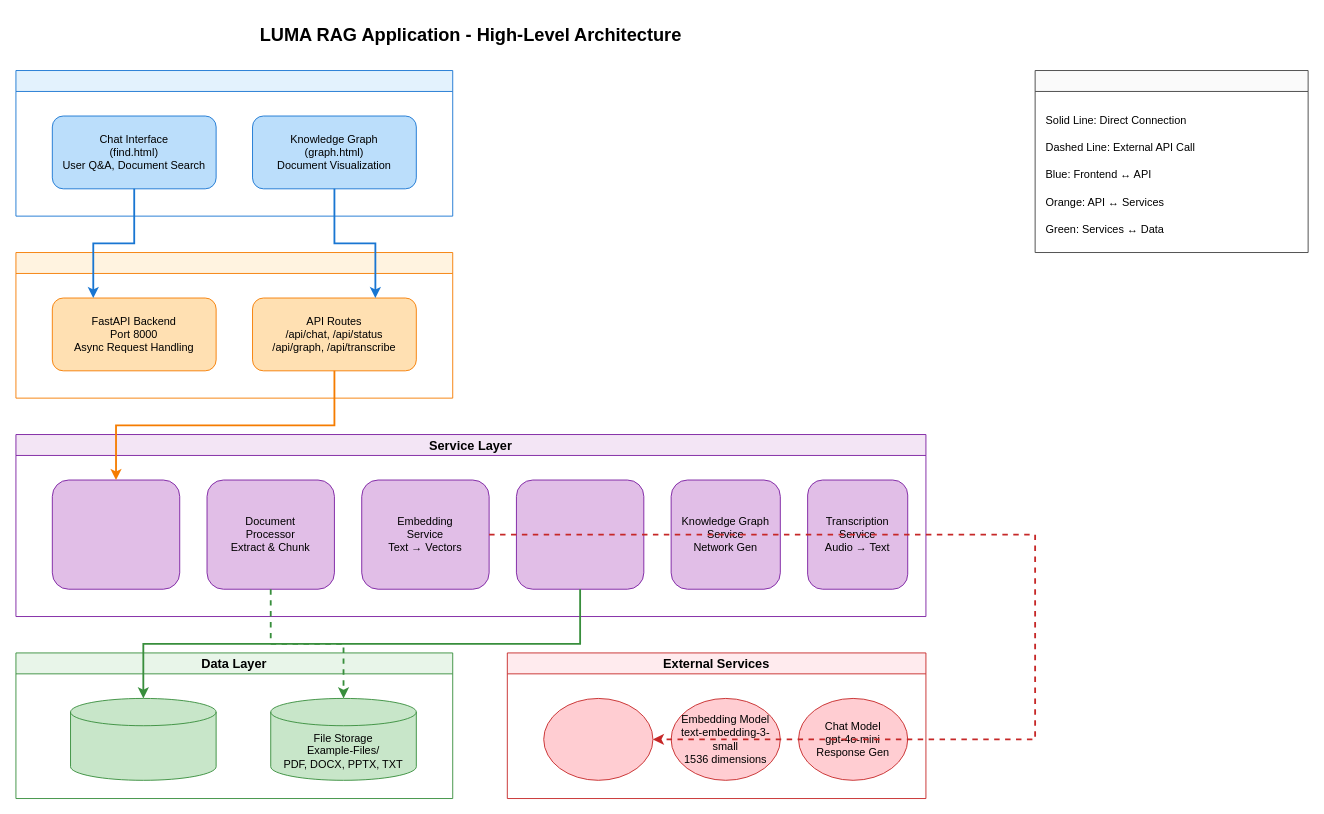
Some shapes in this 1324 by 814 pixel diagram are drawn without their labels. Each missing label, with the box of its shape:
API Layer: (15, 252, 453, 398)
Chat Service RAG Pipeline Q&A Generation: (51, 479, 180, 589)
Frontend Layer: (15, 70, 453, 216)
GreenPT API api.greenpt.ai OpenAI-Compatible: (543, 698, 653, 780)
Legend: (1034, 70, 1308, 253)
Vector Store Weaviate Client CRUD Operations: (516, 479, 644, 589)
Weaviate Vector Database Port 8080/50051 DocumentChunk Collection: (70, 698, 216, 780)
